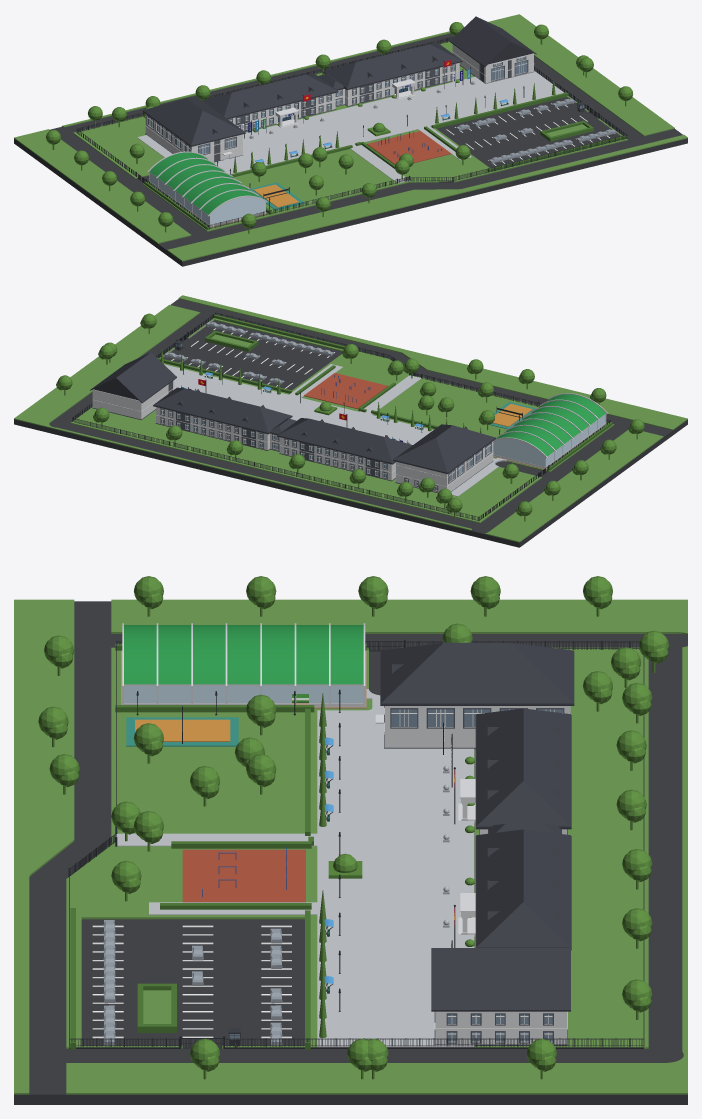
File: nice_campus.glb
3 views of the same model, one above another, from view 1: azimuth 30°, elevation 25°; view 2: azimuth 150°, elevation 25°; view 3: azimuth 270°, elevation 25° (orthographic). The views are drawn at different scales.
Parts seen in each view (by area): view 1: ground_grass, ground_road, ground_plaza, ground_tree, fence, wingB__roof, wingA__roof, gym__roof, ground_hedge, hall__roof, glass, ground_rubber (+20 smaller); view 2: ground_grass, ground_road, ground_tree, ground_plaza, fence, wingB__roof, wingA__roof, gym__roof, ground_hedge, hall__roof, ground_rubber, gym__walls (+18 smaller); view 3: ground_grass, ground_road, ground_plaza, ground_tree, gym__roof, wingB__roof, wingA__roof, hall__roof, ground_hedge, ground_rubber, fence, fhall__glaze (+17 smaller).
Part boxes in pixels (left/top/right/bottom): ground_grass: left=14, top=14, right=687, bottom=261; ground_road: left=14, top=33, right=687, bottom=266; ground_plaza: left=137, top=70, right=564, bottom=183; ground_tree: left=46, top=22, right=632, bottom=233; fence: left=76, top=36, right=627, bottom=228; wingB__roof: left=323, top=43, right=462, bottom=89; wingA__roof: left=203, top=73, right=338, bottom=119; gym__roof: left=142, top=97, right=245, bottom=146; ground_hedge: left=144, top=92, right=627, bottom=229; hall__roof: left=450, top=16, right=536, bottom=67; glass: left=147, top=57, right=527, bottom=154; ground_rubber: left=367, top=131, right=451, bottom=164; ground_grass: left=14, top=295, right=687, bottom=542; ground_road: left=14, top=299, right=687, bottom=547; ground_tree: left=56, top=313, right=644, bottom=521; ground_plaza: left=164, top=364, right=507, bottom=496; fence: left=72, top=312, right=610, bottom=520; wingB__roof: left=153, top=387, right=292, bottom=434; wingA__roof: left=277, top=418, right=412, bottom=464; gym__roof: left=393, top=424, right=496, bottom=474; ground_hedge: left=157, top=314, right=612, bottom=470; hall__roof: left=90, top=352, right=176, bottom=403; ground_rubber: left=304, top=373, right=388, bottom=408; gym__walls: left=395, top=441, right=493, bottom=492; ground_grass: left=14, top=599, right=687, bottom=1094; ground_road: left=14, top=601, right=687, bottom=1104; ground_plaza: left=115, top=689, right=474, bottom=1047; ground_tree: left=38, top=576, right=669, bottom=1079; gym__roof: left=380, top=642, right=574, bottom=705; wingB__roof: left=475, top=829, right=571, bottom=950; wingA__roof: left=475, top=708, right=571, bottom=829; hall__roof: left=431, top=948, right=570, bottom=1011; ground_hedge: left=70, top=643, right=366, bottom=1049; ground_rubber: left=182, top=849, right=305, bottom=902; fence: left=68, top=639, right=644, bottom=1048; fhall__glaze: left=124, top=686, right=363, bottom=702.
Size of the model in its own units: 208 by 18.33 by 120.
